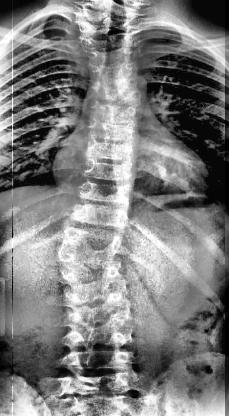Vertebrae: (73, 178, 137, 210), (69, 200, 133, 230), (84, 90, 144, 121), (58, 228, 124, 256), (64, 373, 136, 397), (78, 156, 138, 184), (56, 247, 122, 272), (84, 134, 138, 164), (67, 350, 133, 374), (58, 264, 121, 289), (65, 286, 129, 310), (66, 328, 130, 352), (65, 309, 131, 331), (76, 7, 134, 31), (84, 115, 142, 139), (89, 76, 146, 100), (74, 20, 136, 40), (77, 32, 135, 52), (82, 46, 138, 66), (88, 61, 140, 80)
